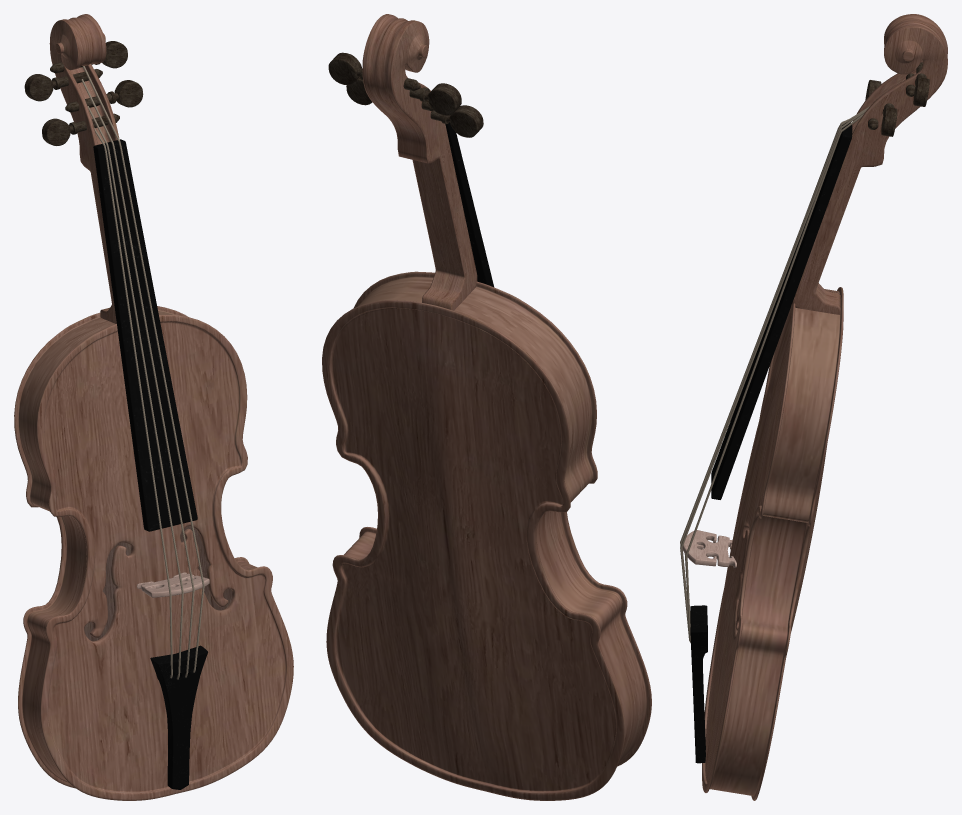
The model's file is violin-transformed.glb.
The picture shows the model from 3 angles, left to right: view 1: azimuth 30°, elevation 25°; view 2: azimuth 150°, elevation 25°; view 3: azimuth 270°, elevation 25°; orthographic projection. The views are drawn at different scales.
Visible parts, largest first — view 1: loftedSurface5, pCube1, pCylinder9, pPlane6, pCylinder16, pCylinder15, pCylinder13, pPlane2, pCylinder14, pPlane5, pCube6, pCube5 (+2 smaller); view 2: loftedSurface5, pCylinder9, pCube1, pCube6, pCube4, pCube5; view 3: loftedSurface5, pCylinder9, pCube1, pPlane6, pCylinder16, pCylinder15, pPlane5, pCylinder13, pCube4.
Part boxes in pixels (x1=…): loftedSurface5: x1=14, y1=306, x2=293, y2=800; pCube1: x1=93, y1=139, x2=197, y2=531; pCylinder9: x1=49, y1=14, x2=119, y2=323; pPlane6: x1=150, y1=645, x2=207, y2=789; pCylinder16: x1=82, y1=66, x2=204, y2=672; pCylinder15: x1=81, y1=79, x2=194, y2=677; pCylinder13: x1=87, y1=106, x2=183, y2=679; pPlane2: x1=84, y1=526, x2=232, y2=641; pCylinder14: x1=94, y1=127, x2=172, y2=678; pPlane5: x1=136, y1=572, x2=209, y2=597; pCube6: x1=24, y1=69, x2=102, y2=101; pCube5: x1=42, y1=113, x2=119, y2=145; loftedSurface5: x1=322, y1=271, x2=651, y2=800; pCylinder9: x1=362, y1=14, x2=477, y2=310; pCube1: x1=445, y1=122, x2=493, y2=287; pCube6: x1=409, y1=83, x2=461, y2=115; pCube4: x1=328, y1=52, x2=420, y2=91; pCube5: x1=430, y1=105, x2=483, y2=137; loftedSurface5: x1=702, y1=287, x2=843, y2=800; pCylinder9: x1=793, y1=14, x2=947, y2=314; pCube1: x1=711, y1=122, x2=852, y2=499; pPlane6: x1=690, y1=605, x2=707, y2=763; pCylinder16: x1=685, y1=113, x2=863, y2=643; pCylinder15: x1=680, y1=108, x2=868, y2=637; pPlane5: x1=682, y1=530, x2=736, y2=567; pCylinder13: x1=680, y1=106, x2=869, y2=598; pCube4: x1=913, y1=62, x2=929, y2=106.
Bounding box in the file's own units: 2.01 × 5.39 × 1.73.
9 materials, 9 textured.
